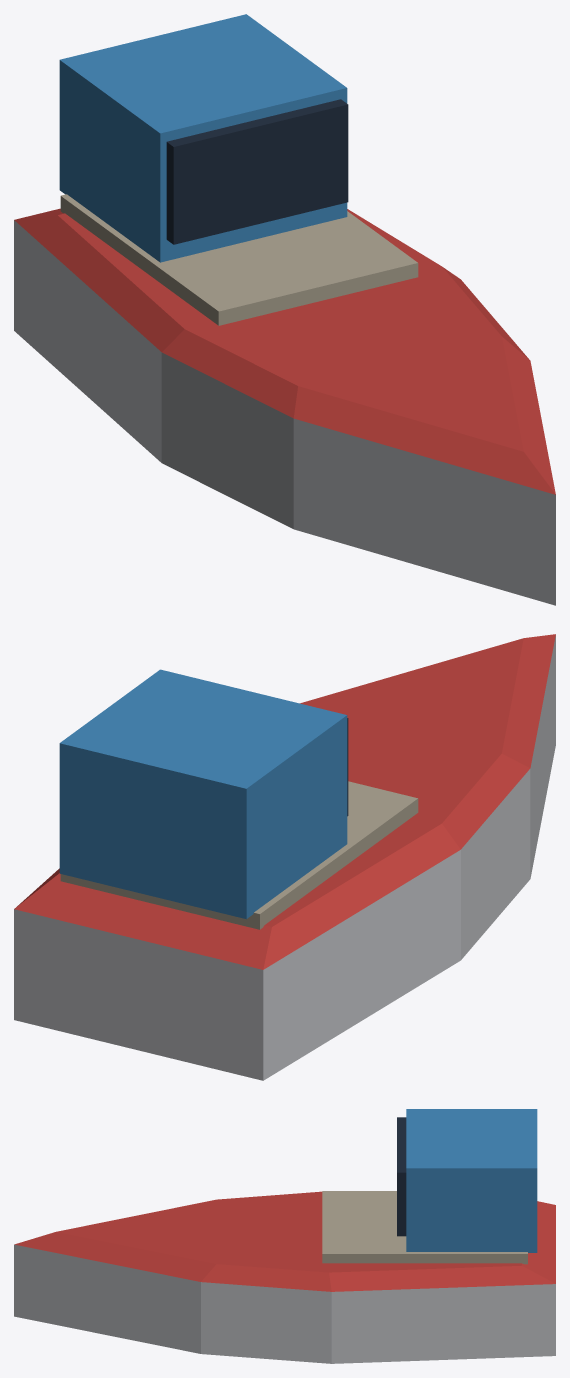
Rendered from boat.glb.
3 views of the same model, one above another, from view 1: azimuth 30°, elevation 25°; view 2: azimuth 150°, elevation 25°; view 3: azimuth 270°, elevation 25° (orthographic). The views are drawn at different scales.
Parts seen in each view (by area): view 1: boat; view 2: boat; view 3: boat.
Boxes of the visible parts, left/top/right/bottom form: boat: left=14, top=14, right=555, bottom=605; boat: left=14, top=634, right=555, bottom=1080; boat: left=14, top=1109, right=555, bottom=1363.
Size of the model in its own units: 0.24 by 0.21 by 0.58.
